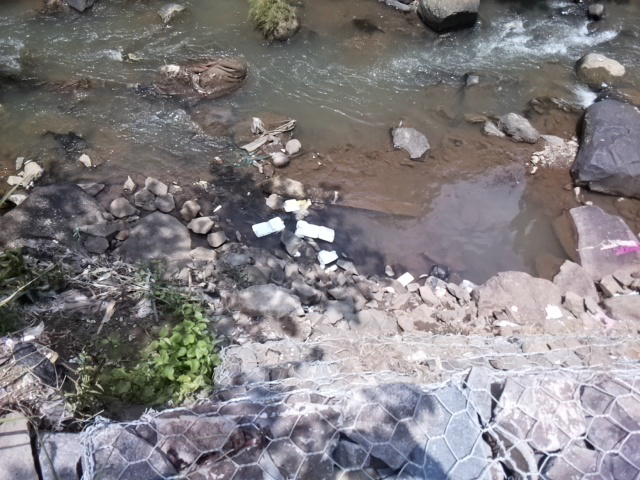Sampah_Plastik: (599, 237, 640, 254), (429, 263, 450, 280)
Sampah_Styrofoam: (292, 221, 337, 242), (249, 216, 287, 235), (280, 197, 303, 211), (318, 248, 338, 263), (394, 272, 414, 286)
